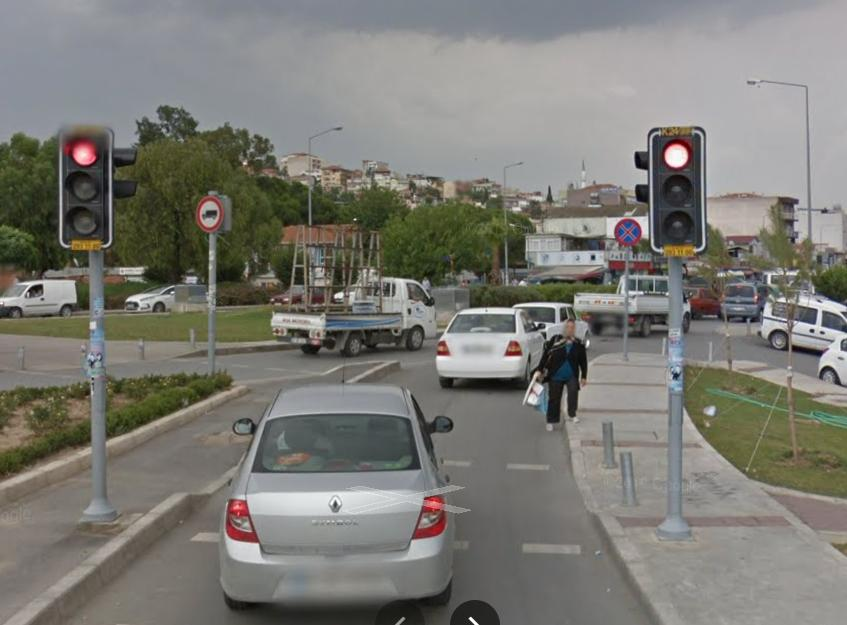redlight: (650, 131, 701, 253), (63, 123, 109, 246)
